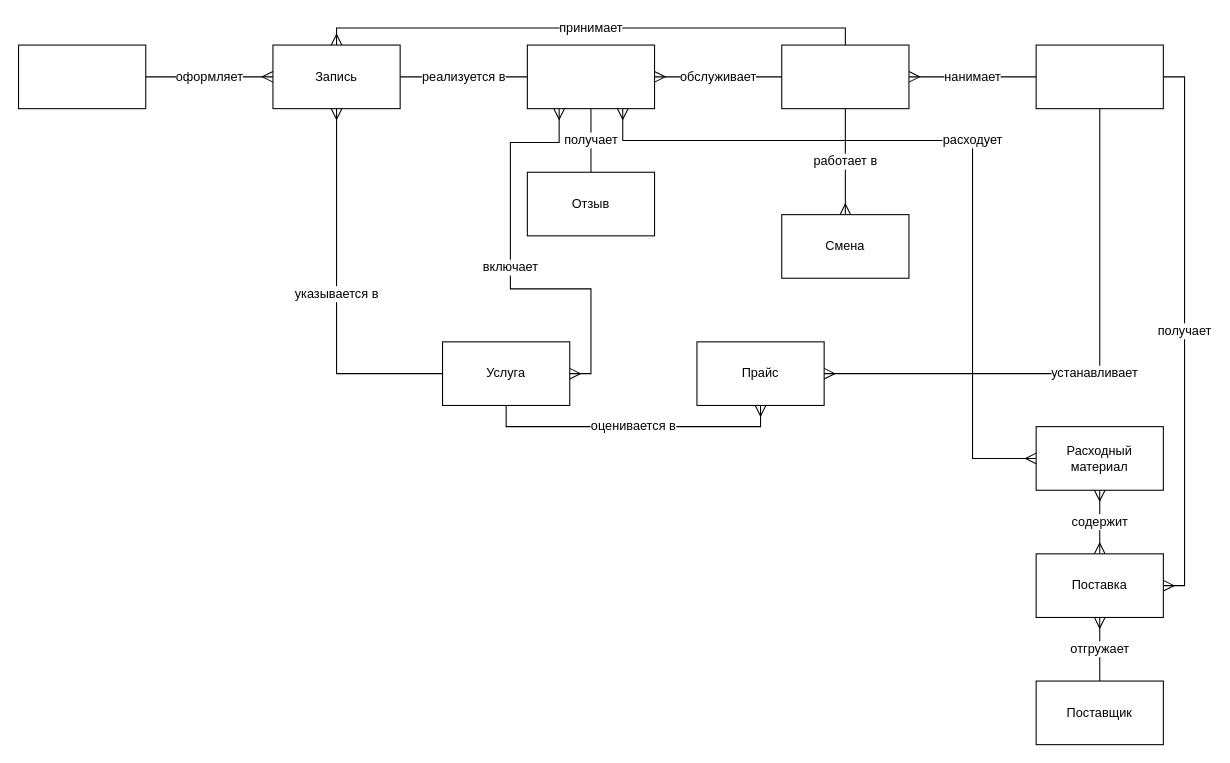
Some shapes in this 1230 by 763 pixel diagram are drawn without their labels. Here are the shapes that lost their labels. From the top down, the box of each, then its label:
(17, 44, 146, 109): Клиент
(526, 44, 655, 109): Визит
(781, 44, 909, 109): Мастер
(1035, 44, 1163, 109): Филиал
